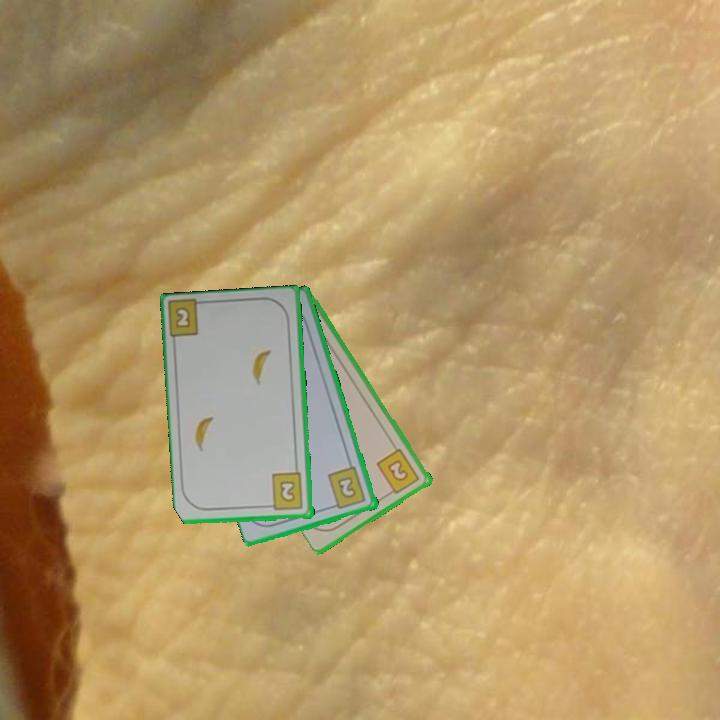2b: (373, 445, 423, 498), (325, 463, 369, 512), (264, 470, 306, 513), (172, 303, 194, 331)
